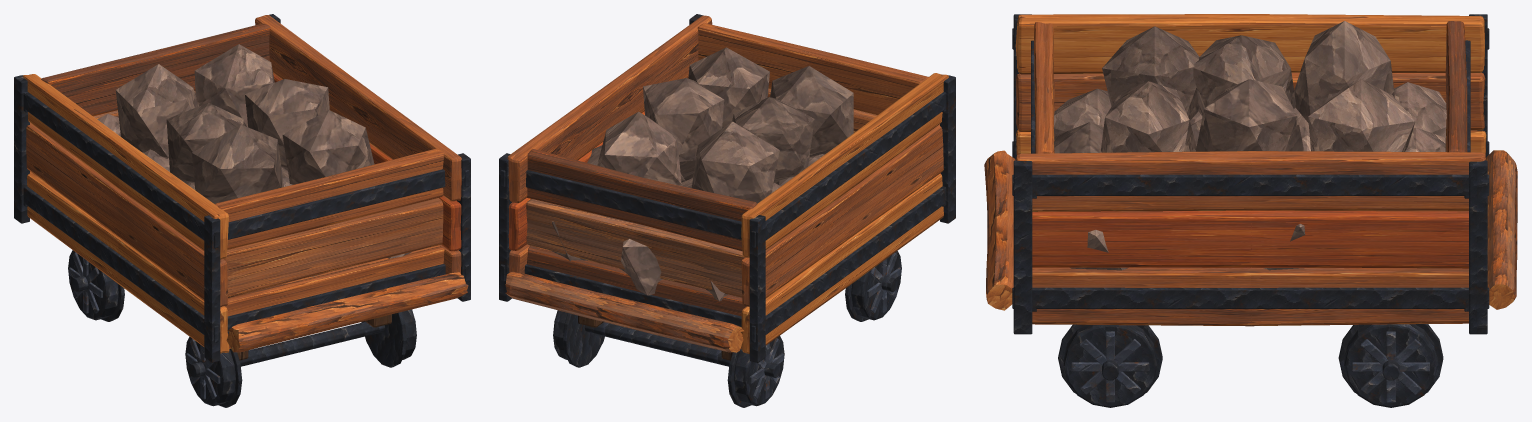
Rendered from trap_cart.glb.
The picture shows the model from 3 angles, left to right: view 1: azimuth 30°, elevation 25°; view 2: azimuth 150°, elevation 25°; view 3: azimuth 270°, elevation 25°; orthographic projection. The views are drawn at different scales.
Visible parts, largest first — view 1: body, wheel2, wheel0, wheel3; view 2: body, wheel0, wheel2, wheel1; view 3: body, wheel1, wheel3.
Boxes of the visible parts, x1,y1,x2,y2 form: body: (14,14,470,377); wheel2: (185,336,242,407); wheel0: (68,250,124,321); wheel3: (361,309,416,367); body: (499,14,955,377); wheel0: (727,336,784,407); wheel2: (845,251,901,321); wheel1: (553,310,604,367); body: (984,14,1517,380); wheel1: (1338,324,1443,407); wheel3: (1058,324,1162,407).
Bounding box in the file's own units: 1.15 × 1.1 × 1.71.
Materials: 18 (18 with a texture image).
